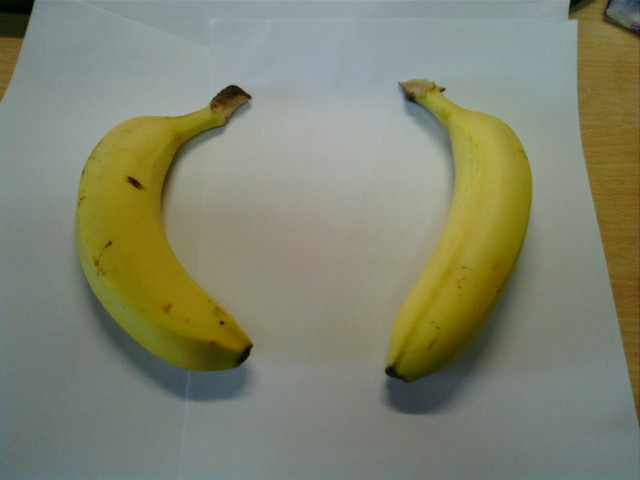fresh_banana: (383, 76, 535, 378)
normal_banana: (75, 87, 251, 373)
